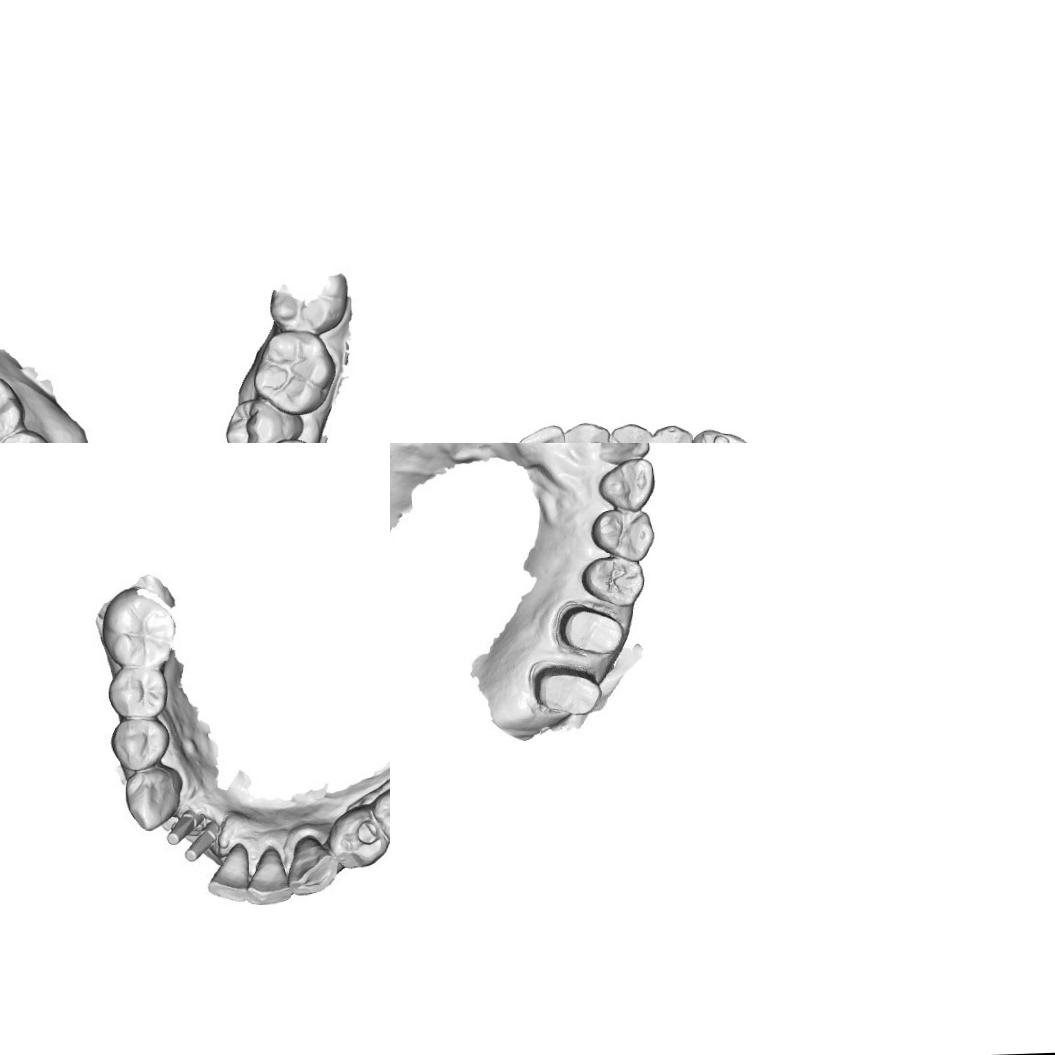abutment: (180, 820, 229, 870), (162, 808, 208, 848)
canine: (122, 764, 182, 832), (284, 830, 340, 898), (595, 459, 660, 511), (562, 419, 611, 443)
crown: (527, 662, 604, 720), (556, 601, 624, 665)
incisor: (244, 847, 295, 913), (207, 844, 250, 905), (594, 443, 651, 463), (516, 423, 570, 443)
molar: (96, 593, 182, 669), (260, 328, 330, 408), (264, 272, 352, 332), (0, 374, 22, 443), (688, 425, 755, 443), (0, 430, 55, 443)
premolar: (327, 805, 390, 869), (588, 504, 656, 562), (578, 552, 648, 608), (222, 399, 304, 443), (109, 717, 170, 770), (108, 667, 164, 718), (607, 421, 654, 443), (374, 784, 390, 844), (651, 423, 695, 443)
